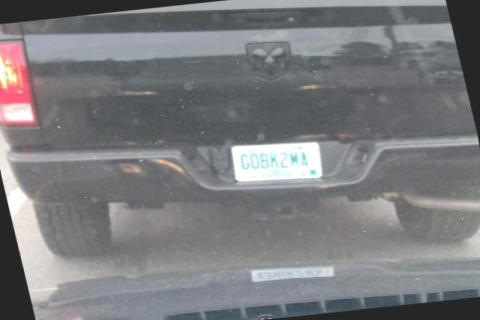LicensePlate: (228, 141, 321, 181)
